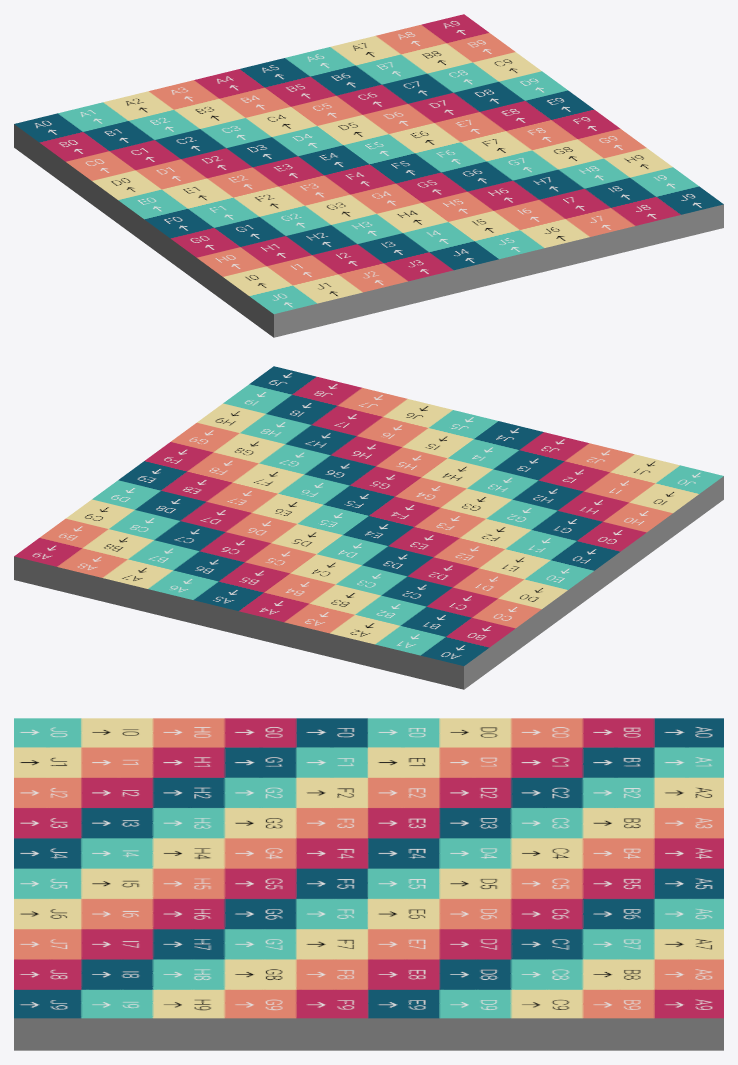
The model's file is Ground2.fbx.
3 views of the same model, one above another, from view 1: azimuth 30°, elevation 25°; view 2: azimuth 150°, elevation 25°; view 3: azimuth 270°, elevation 25° (orthographic). The views are drawn at different scales.
Parts seen in each view (by area): view 1: pCube1; view 2: pCube1; view 3: pCube1.
Boxes of the visible parts, x1,y1,x2,y2 form: pCube1: [14, 14, 723, 337]; pCube1: [14, 366, 723, 689]; pCube1: [14, 718, 723, 1050].
Size of the model in its own units: 20 by 1 by 20.
Materials: 2 (1 with a texture image).
